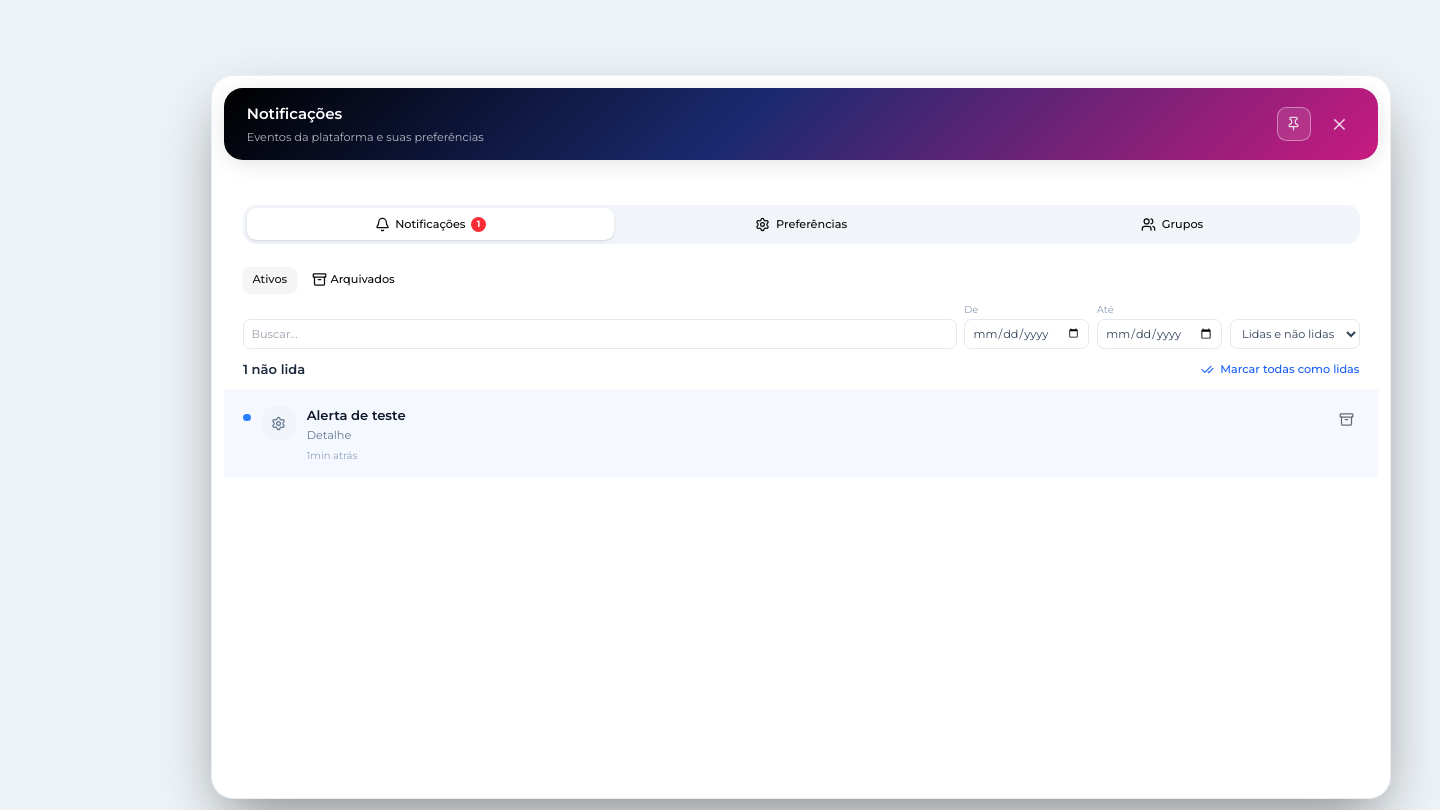
Test: NotificationsPanel — Inbox (fonte, loading e erro próprios) › clicking the archive button on a row calls archiveSystemAlert and removes it from the active view
Expected: the text "Alerta de teste" is shown, [307,407,406,423]
Click the button titled "Arquivar": point(1346, 419) [1333,406,1360,433]
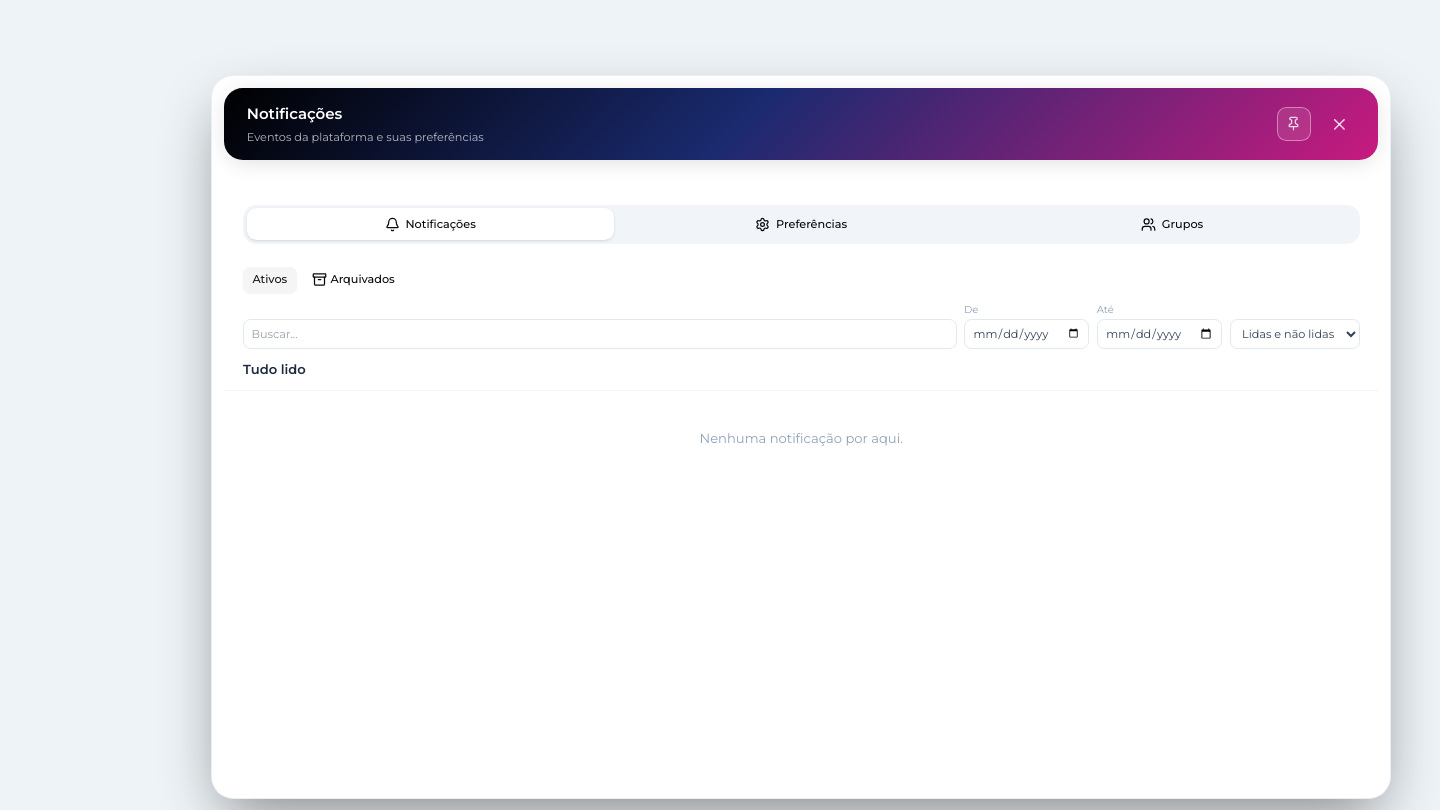
Result: the button "Alerta de teste" is gone
